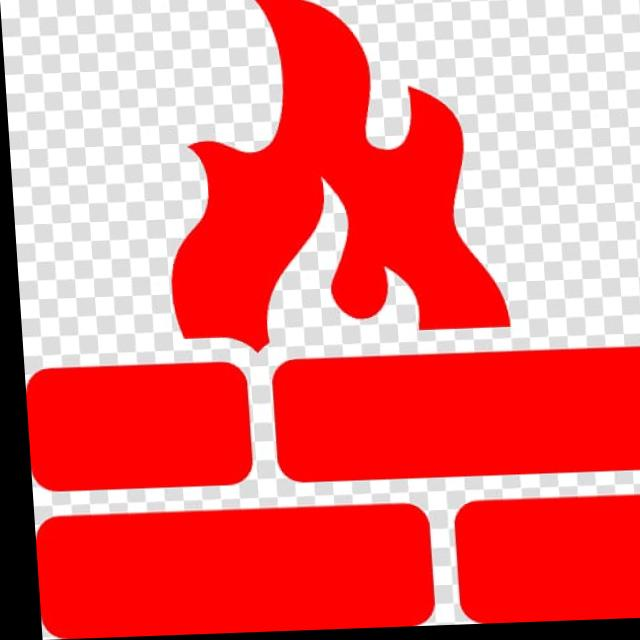Firewall: (0, 0, 640, 640)
